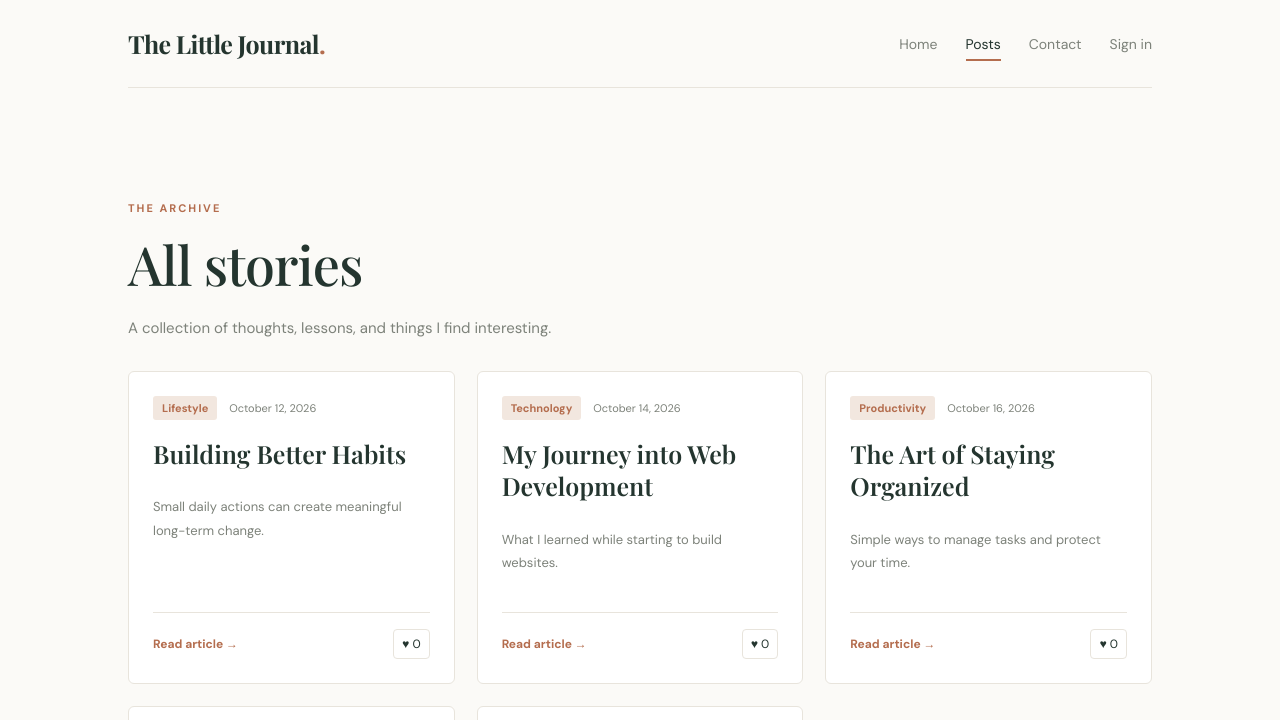
Blog application › updates the like count when the reader clicks like
The image size is (1280, 720).
Click the button named "Like Building Better Habits". click: (411, 644)
box: [393,629,430,659]
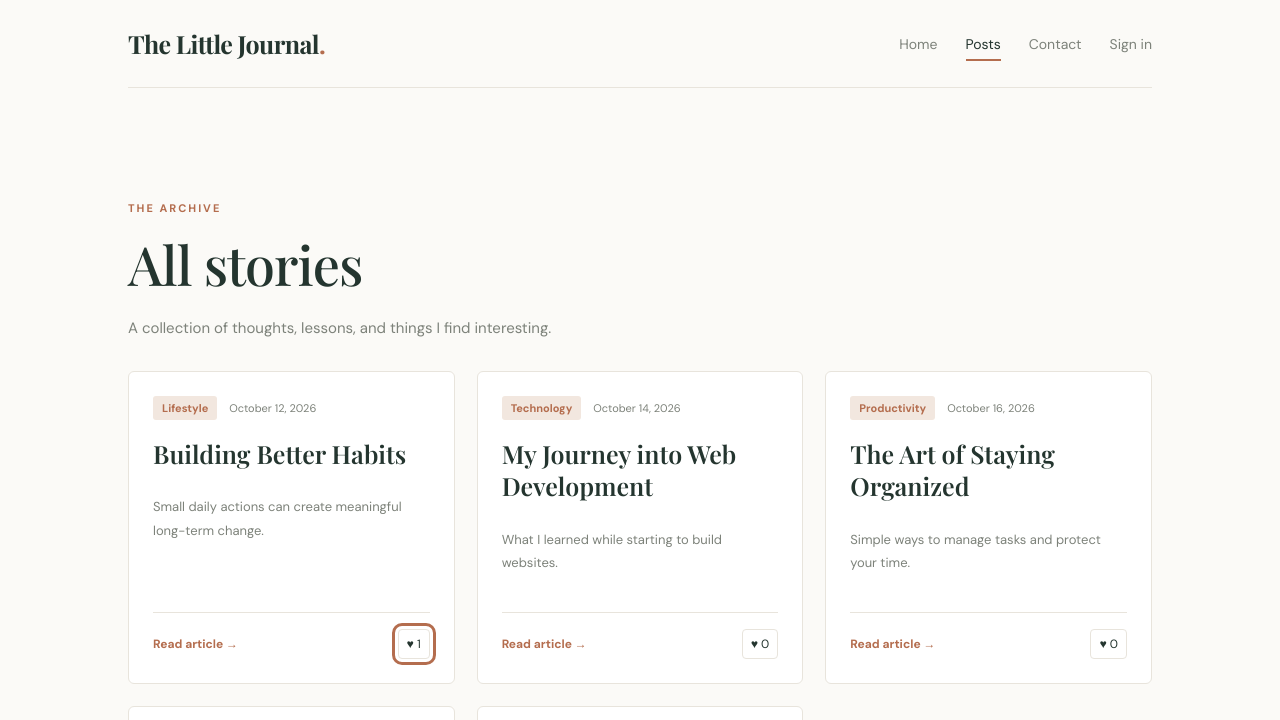
Check: the button named "Like Building Better Habits" shows "1", box [398,629,430,659]
